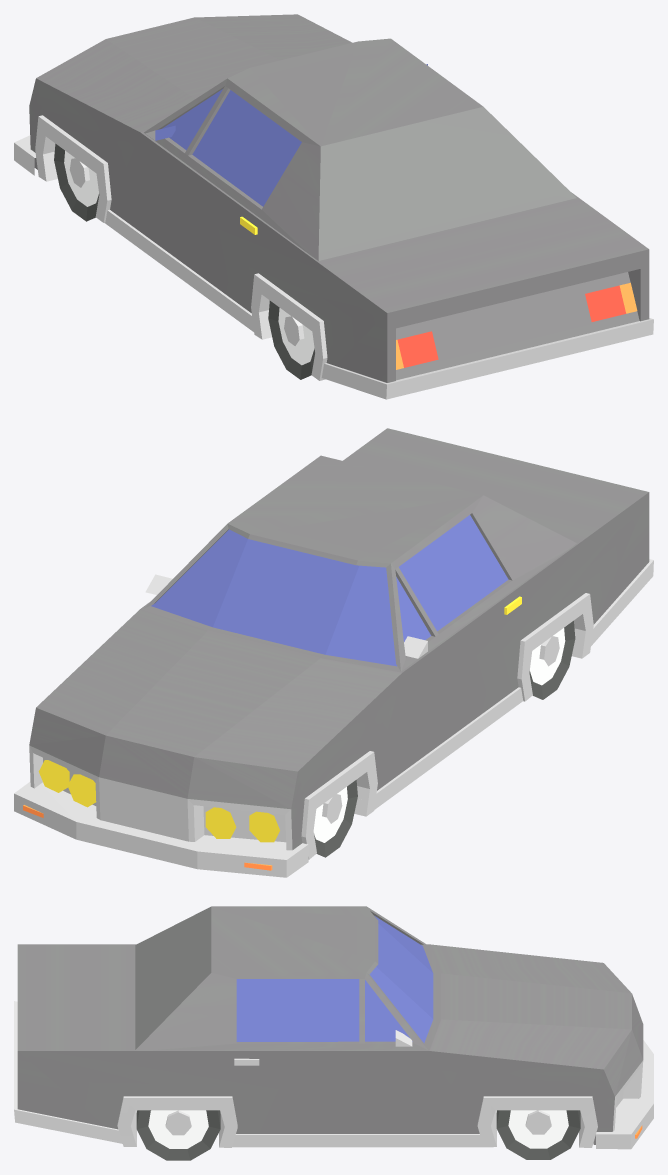
The model's file is transport_cool.009.glb.
3 renders of one model, top to bottom at view 1: azimuth 30°, elevation 25°; view 2: azimuth 150°, elevation 25°; view 3: azimuth 270°, elevation 25°, orthographic. The views are drawn at different scales.
Parts seen in each view (by area): view 1: transport_cool.009(Clone); view 2: transport_cool.009(Clone); view 3: transport_cool.009(Clone).
Boxes of the visible parts, x1,y1,x2,y2 form: transport_cool.009(Clone): (14, 14, 653, 399); transport_cool.009(Clone): (14, 428, 653, 877); transport_cool.009(Clone): (14, 906, 653, 1160).
Bounding box in the file's own units: 1.42 × 1.01 × 3.46.
1 material, 1 textured.
